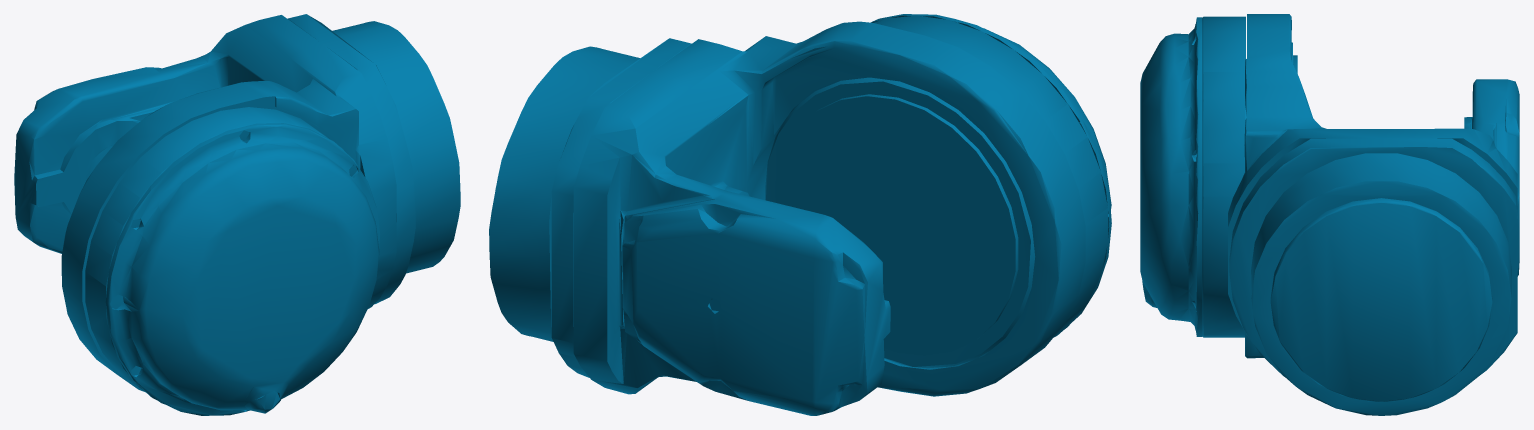
3 views of the same model, side by side, from view 1: azimuth 30°, elevation 25°; view 2: azimuth 150°, elevation 25°; view 3: azimuth 270°, elevation 25° (orthographic). The views are drawn at different scales.
Visible parts, largest first — view 1: mh00400-j00_lk5; view 2: mh00400-j00_lk5; view 3: mh00400-j00_lk5.
Part boxes in pixels (bbox=[...]): mh00400-j00_lk5: bbox=[14, 14, 460, 415]; mh00400-j00_lk5: bbox=[489, 14, 1111, 415]; mh00400-j00_lk5: bbox=[1140, 14, 1519, 415].
Size of the model in its own units: 0.4213 by 0.3488 by 0.3001.
